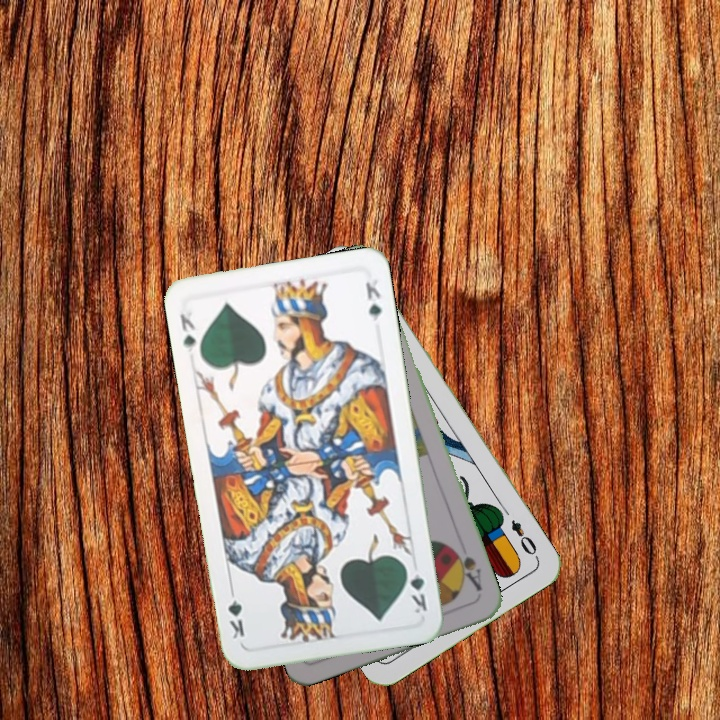EO: (507, 515, 542, 562)
GK: (401, 560, 430, 616), (176, 307, 199, 355)
SA: (448, 545, 485, 599)
